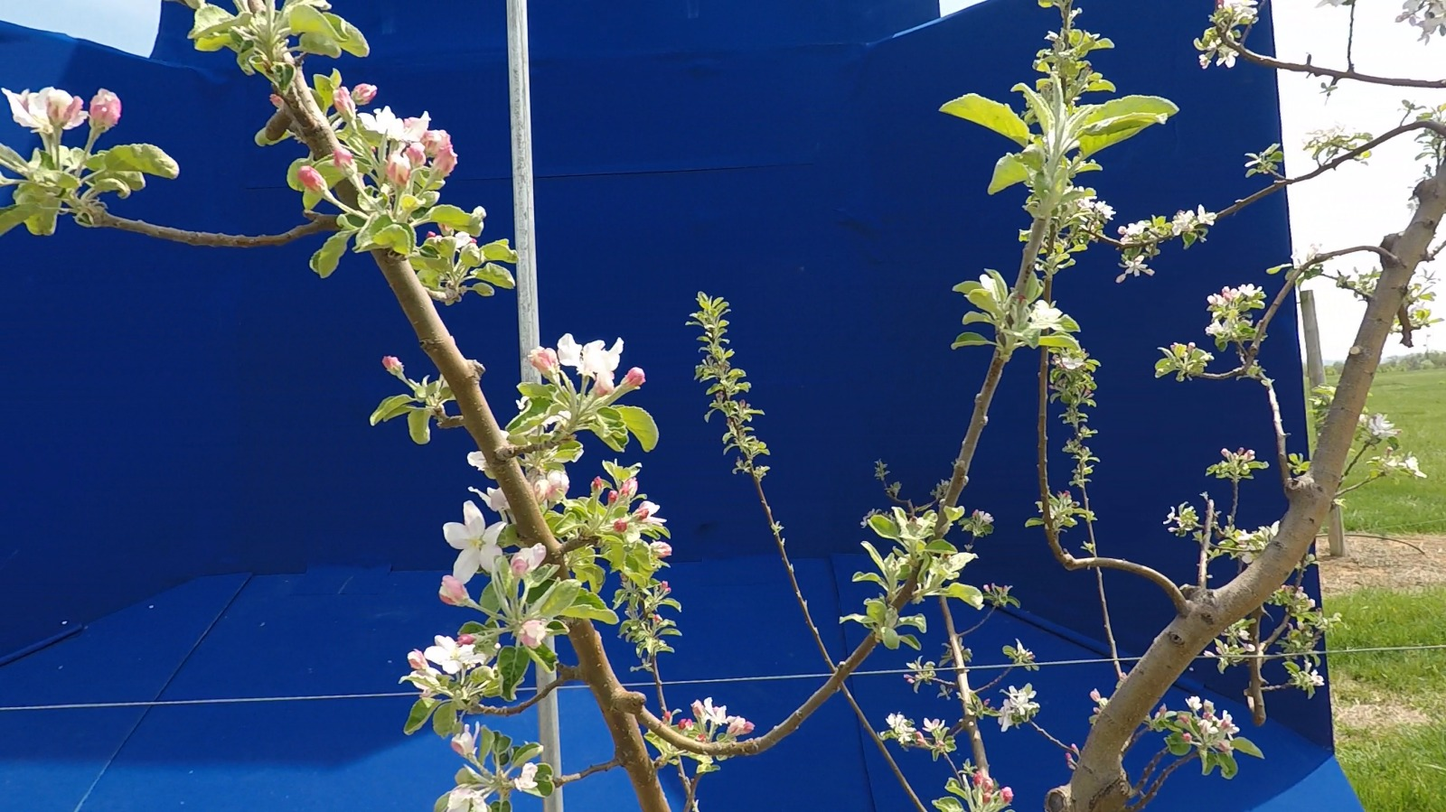flower: (440, 488, 511, 605), (358, 107, 457, 186), (529, 334, 645, 395), (2, 88, 120, 133), (404, 634, 486, 686), (1186, 696, 1240, 741), (692, 698, 754, 736), (1395, 0, 1446, 45), (996, 685, 1040, 733), (435, 784, 493, 812), (1168, 205, 1219, 236), (1208, 285, 1262, 311), (334, 84, 377, 116), (516, 618, 556, 649), (627, 501, 667, 528), (512, 543, 547, 572), (887, 714, 917, 744), (452, 723, 480, 755), (1224, 0, 1258, 26), (1119, 256, 1155, 279), (1369, 414, 1401, 439), (1399, 453, 1427, 478), (515, 763, 540, 791), (943, 721, 970, 743), (1119, 220, 1151, 236), (1095, 201, 1116, 220), (1217, 51, 1239, 68), (924, 718, 940, 733), (413, 682, 430, 694)
